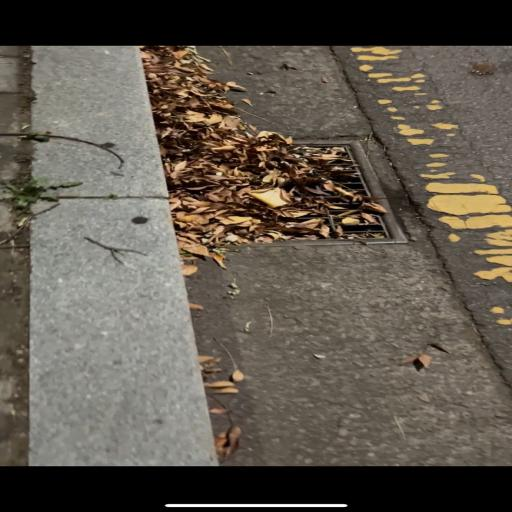debris: (304, 186, 323, 194), (353, 232, 369, 239), (373, 233, 387, 239)
drain: (172, 143, 388, 240)
